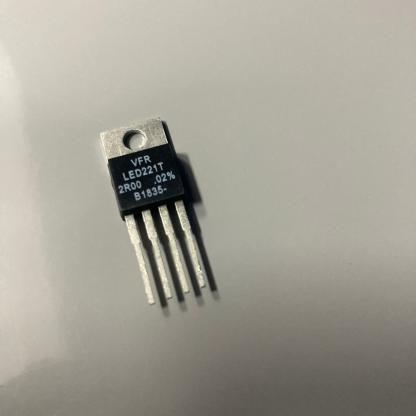SP0000012: (69, 87, 260, 354)
